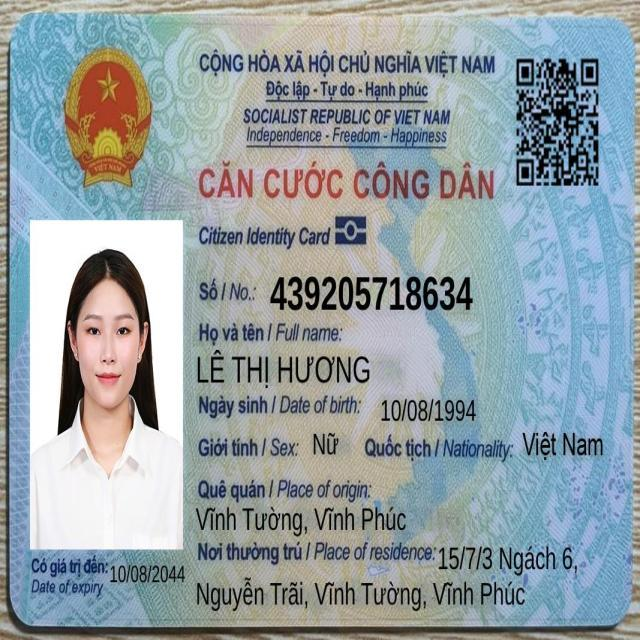current_place: (195, 574, 527, 615), (436, 542, 579, 577)
dob: (378, 393, 478, 427)
expire_date: (108, 562, 186, 585)
gender: (311, 429, 341, 458)
id: (267, 271, 476, 315)
name: (196, 346, 373, 392)
nationality: (520, 429, 605, 463)
origin_place: (193, 503, 408, 539)
qr: (514, 52, 604, 190)
